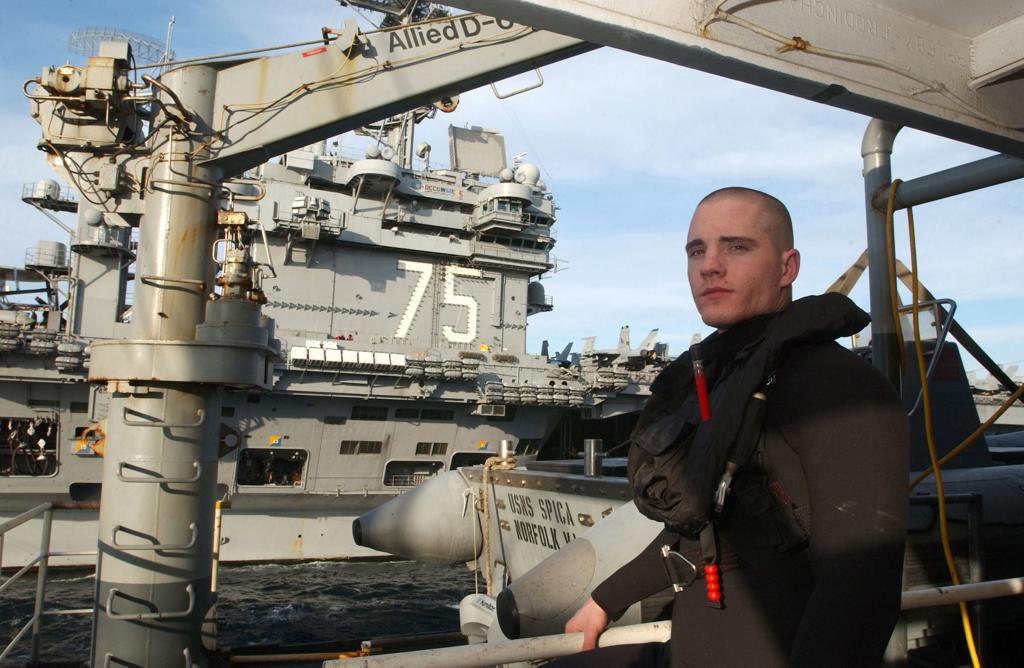face: (684, 210, 780, 322)
